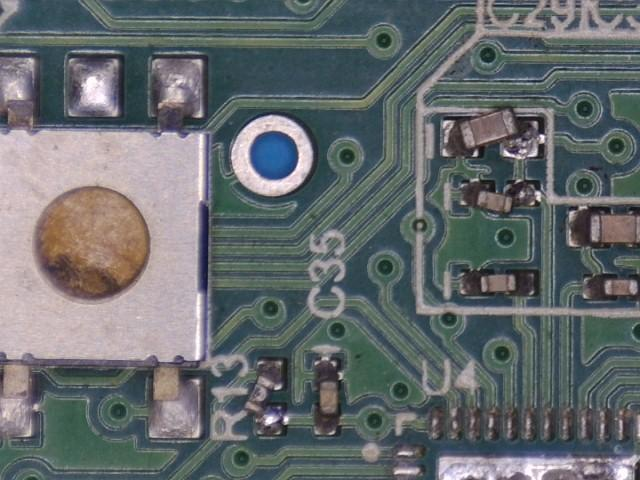Incorrect_installation: (441, 108, 540, 159), (245, 360, 286, 438), (461, 184, 537, 214)
